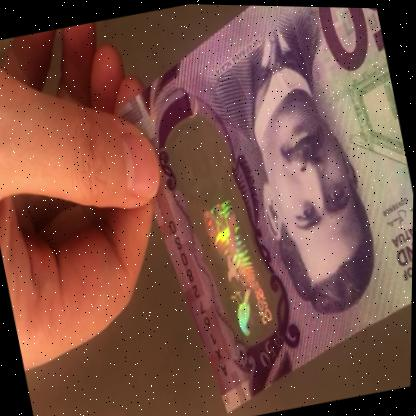50F: (172, 116, 279, 347)
